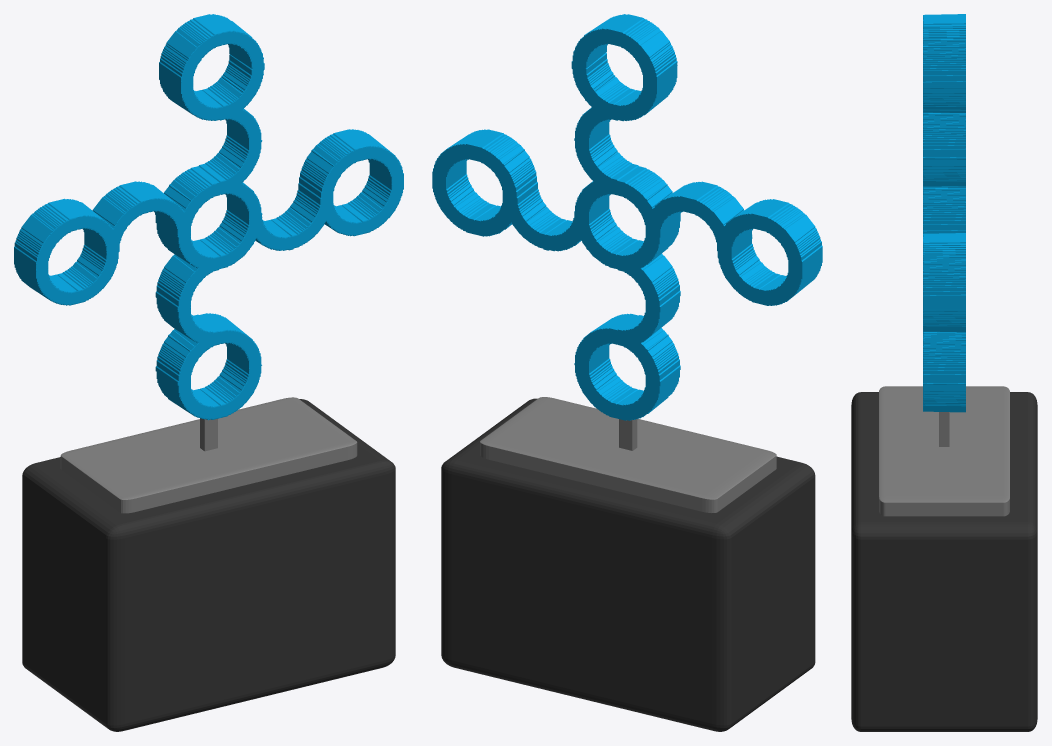
The model's file is premio.glb.
The picture shows the model from 3 angles, left to right: view 1: azimuth 30°, elevation 25°; view 2: azimuth 150°, elevation 25°; view 3: azimuth 270°, elevation 25°; orthographic projection.
Visible parts, largest first — view 1: Base, icono, Base2; view 2: Base, icono, Base2; view 3: Base, icono, Base2, columna.
Part boxes in pixels (x1,y1,x2,y2): Base: [22, 399, 395, 731]; icono: [14, 14, 403, 420]; Base2: [60, 397, 357, 513]; Base: [441, 398, 815, 731]; icono: [432, 14, 822, 420]; Base2: [480, 397, 776, 512]; Base: [851, 392, 1037, 731]; icono: [923, 14, 965, 412]; Base2: [879, 386, 1009, 516]; columna: [939, 412, 949, 446].
Size of the model in its own units: 2.98 by 4.96 by 1.29.
